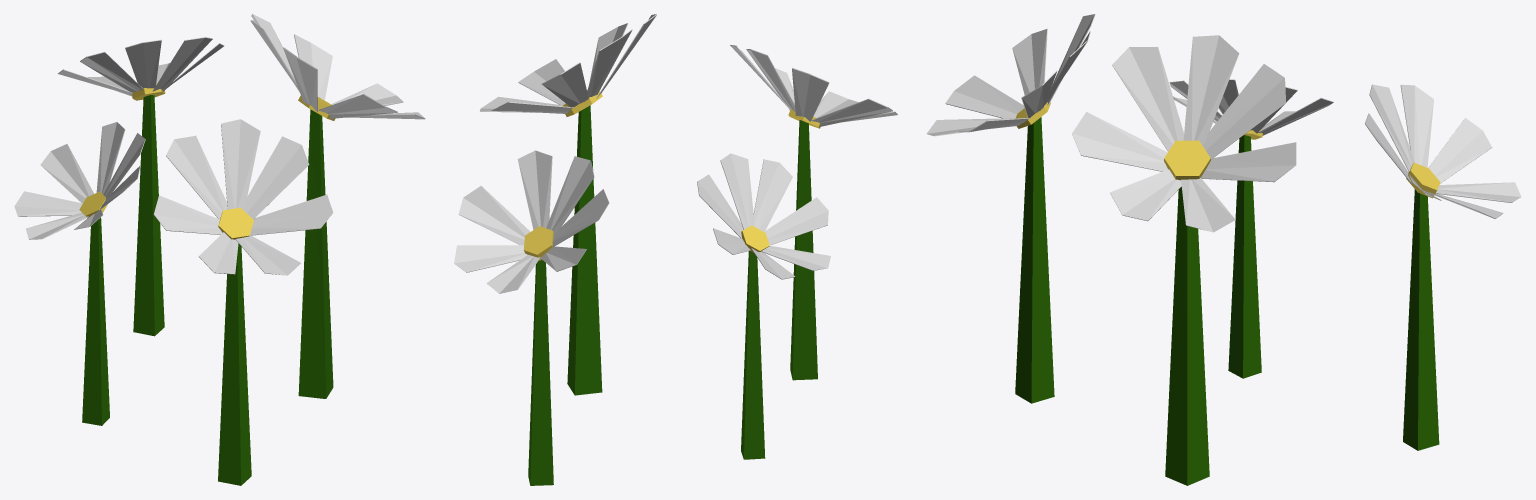
Rendered from flower 1.fbx.
3 views of the same model, side by side, from view 1: azimuth 30°, elevation 25°; view 2: azimuth 150°, elevation 25°; view 3: azimuth 270°, elevation 25° (orthographic). The views are drawn at different scales.
Parts seen in each view (by area): view 1: Daisys_Circle.003; view 2: Daisys_Circle.003; view 3: Daisys_Circle.003.
Part boxes in pixels (box(x1,y1,x2,y2)): Daisys_Circle.003: box(14, 14, 425, 485); Daisys_Circle.003: box(454, 14, 897, 485); Daisys_Circle.003: box(926, 14, 1521, 485).
Size of the model in its own units: 117 by 117 by 153.
